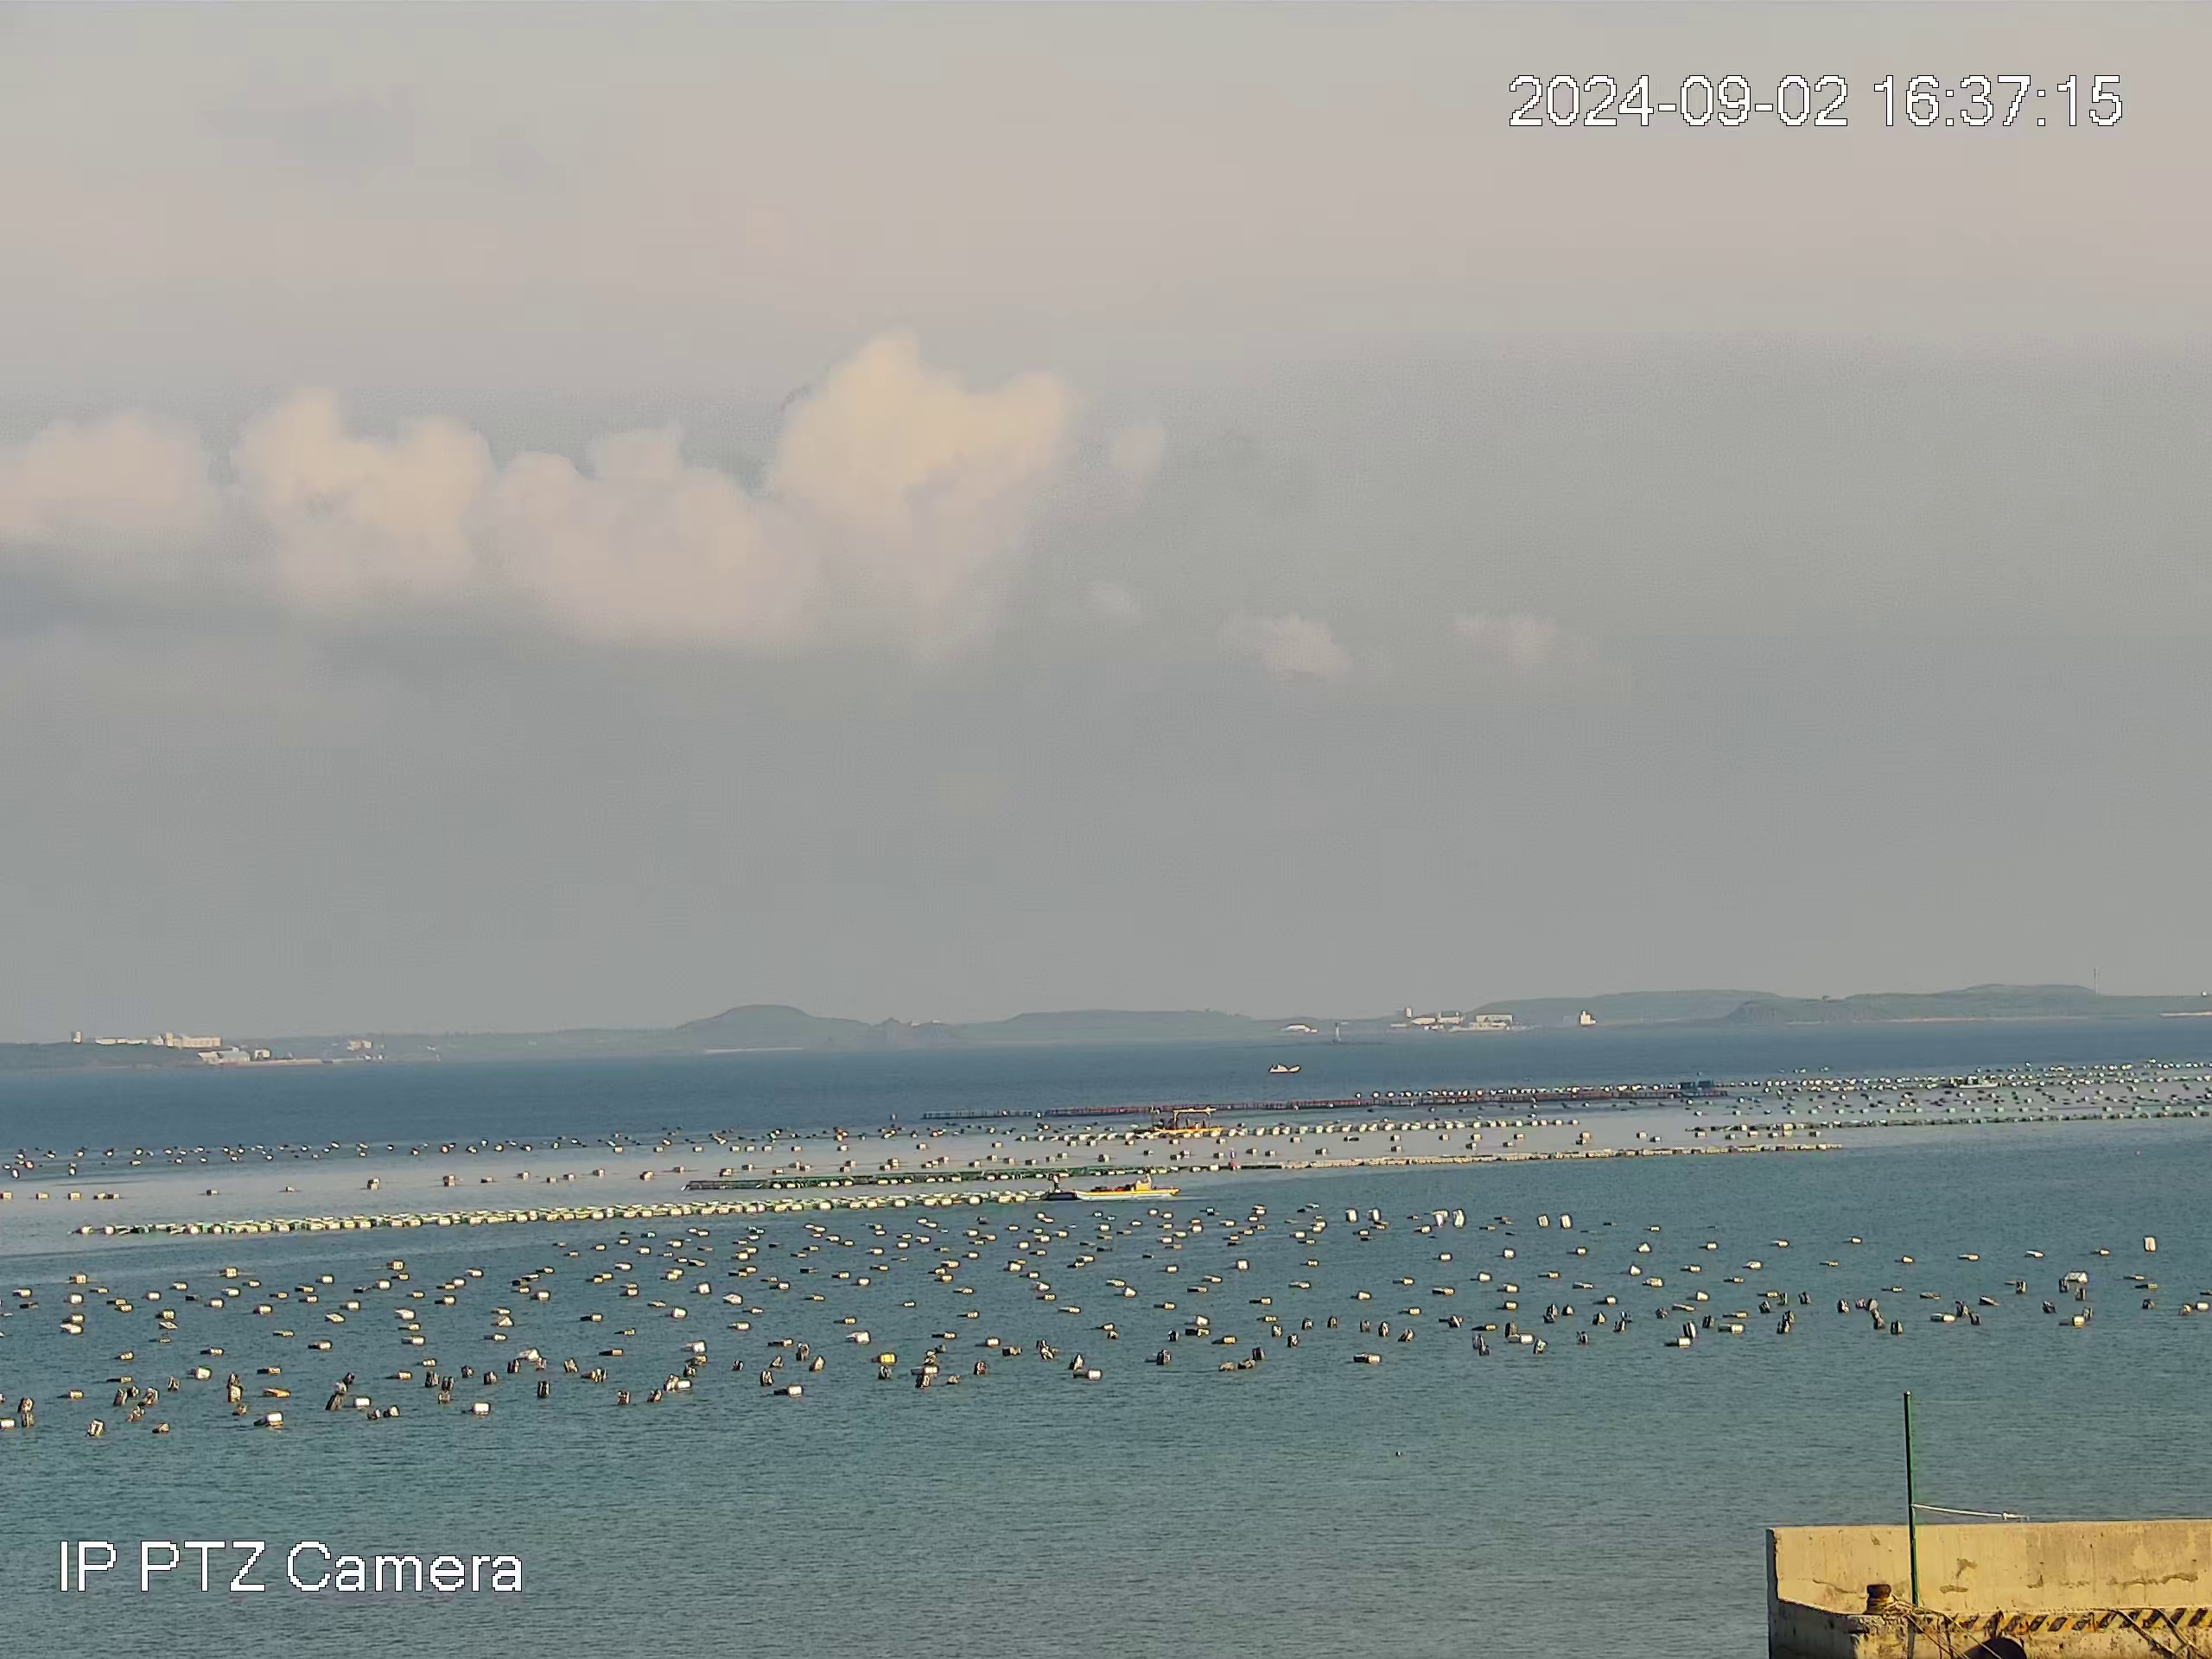boat: (1038, 1169, 1180, 1203), (1144, 1103, 1225, 1134), (1957, 1075, 1999, 1089), (1267, 1061, 1301, 1075)
